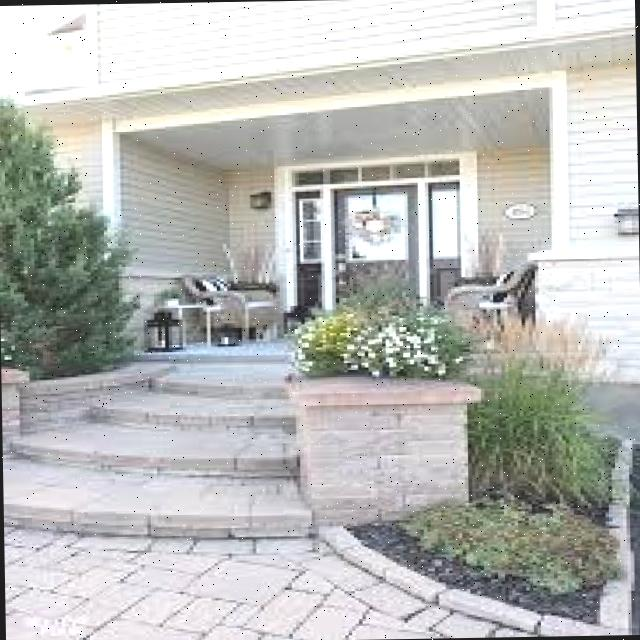stairs: (0, 352, 312, 541)
